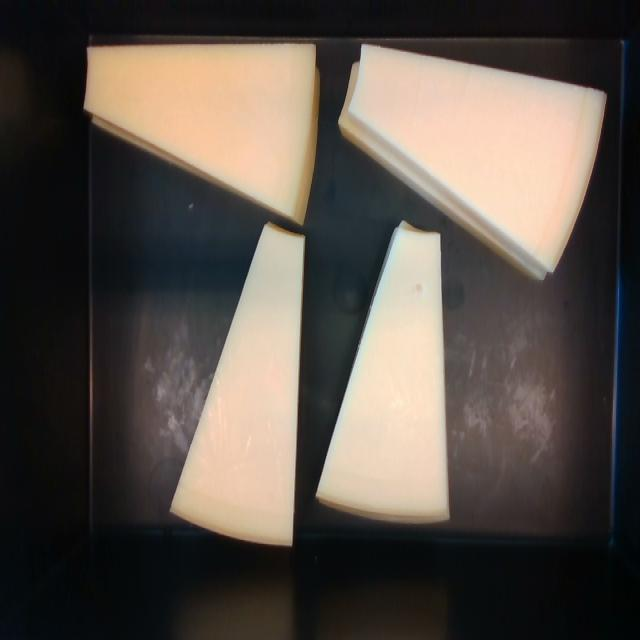cheese: (351, 45, 605, 271), (172, 224, 303, 544), (84, 44, 313, 221), (316, 221, 448, 520)
